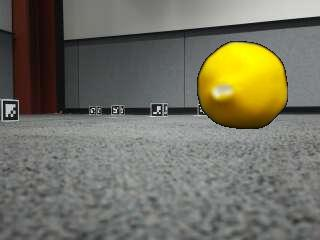lemon: (200, 42, 288, 129)
